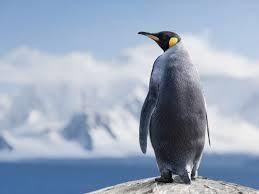king: (128, 24, 226, 192)
